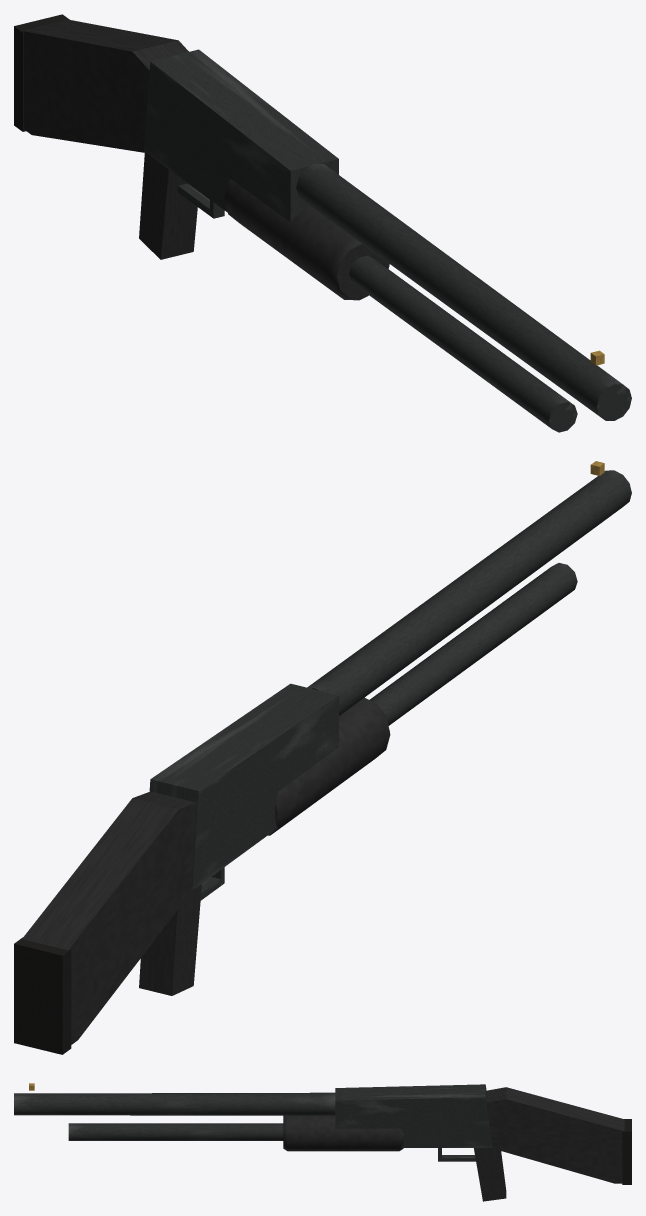
The model's file is weapon-shotgun.glb.
The picture shows the model from 3 angles, top to bottom: view 1: azimuth 30°, elevation 25°; view 2: azimuth 150°, elevation 25°; view 3: azimuth 270°, elevation 25°; orthographic projection. The views are drawn at different scales.
Parts seen in each view (by area): view 1: weapon-shotgun; view 2: weapon-shotgun; view 3: weapon-shotgun.
Boxes of the visible parts, left/top/right/bottom form: weapon-shotgun: left=14, top=14, right=631, bottom=432; weapon-shotgun: left=14, top=461, right=631, bottom=1054; weapon-shotgun: left=14, top=1083, right=631, bottom=1201.
Size of the model in its own units: 0.056 by 0.182 by 0.904.
Materials: 1 (1 with a texture image).
